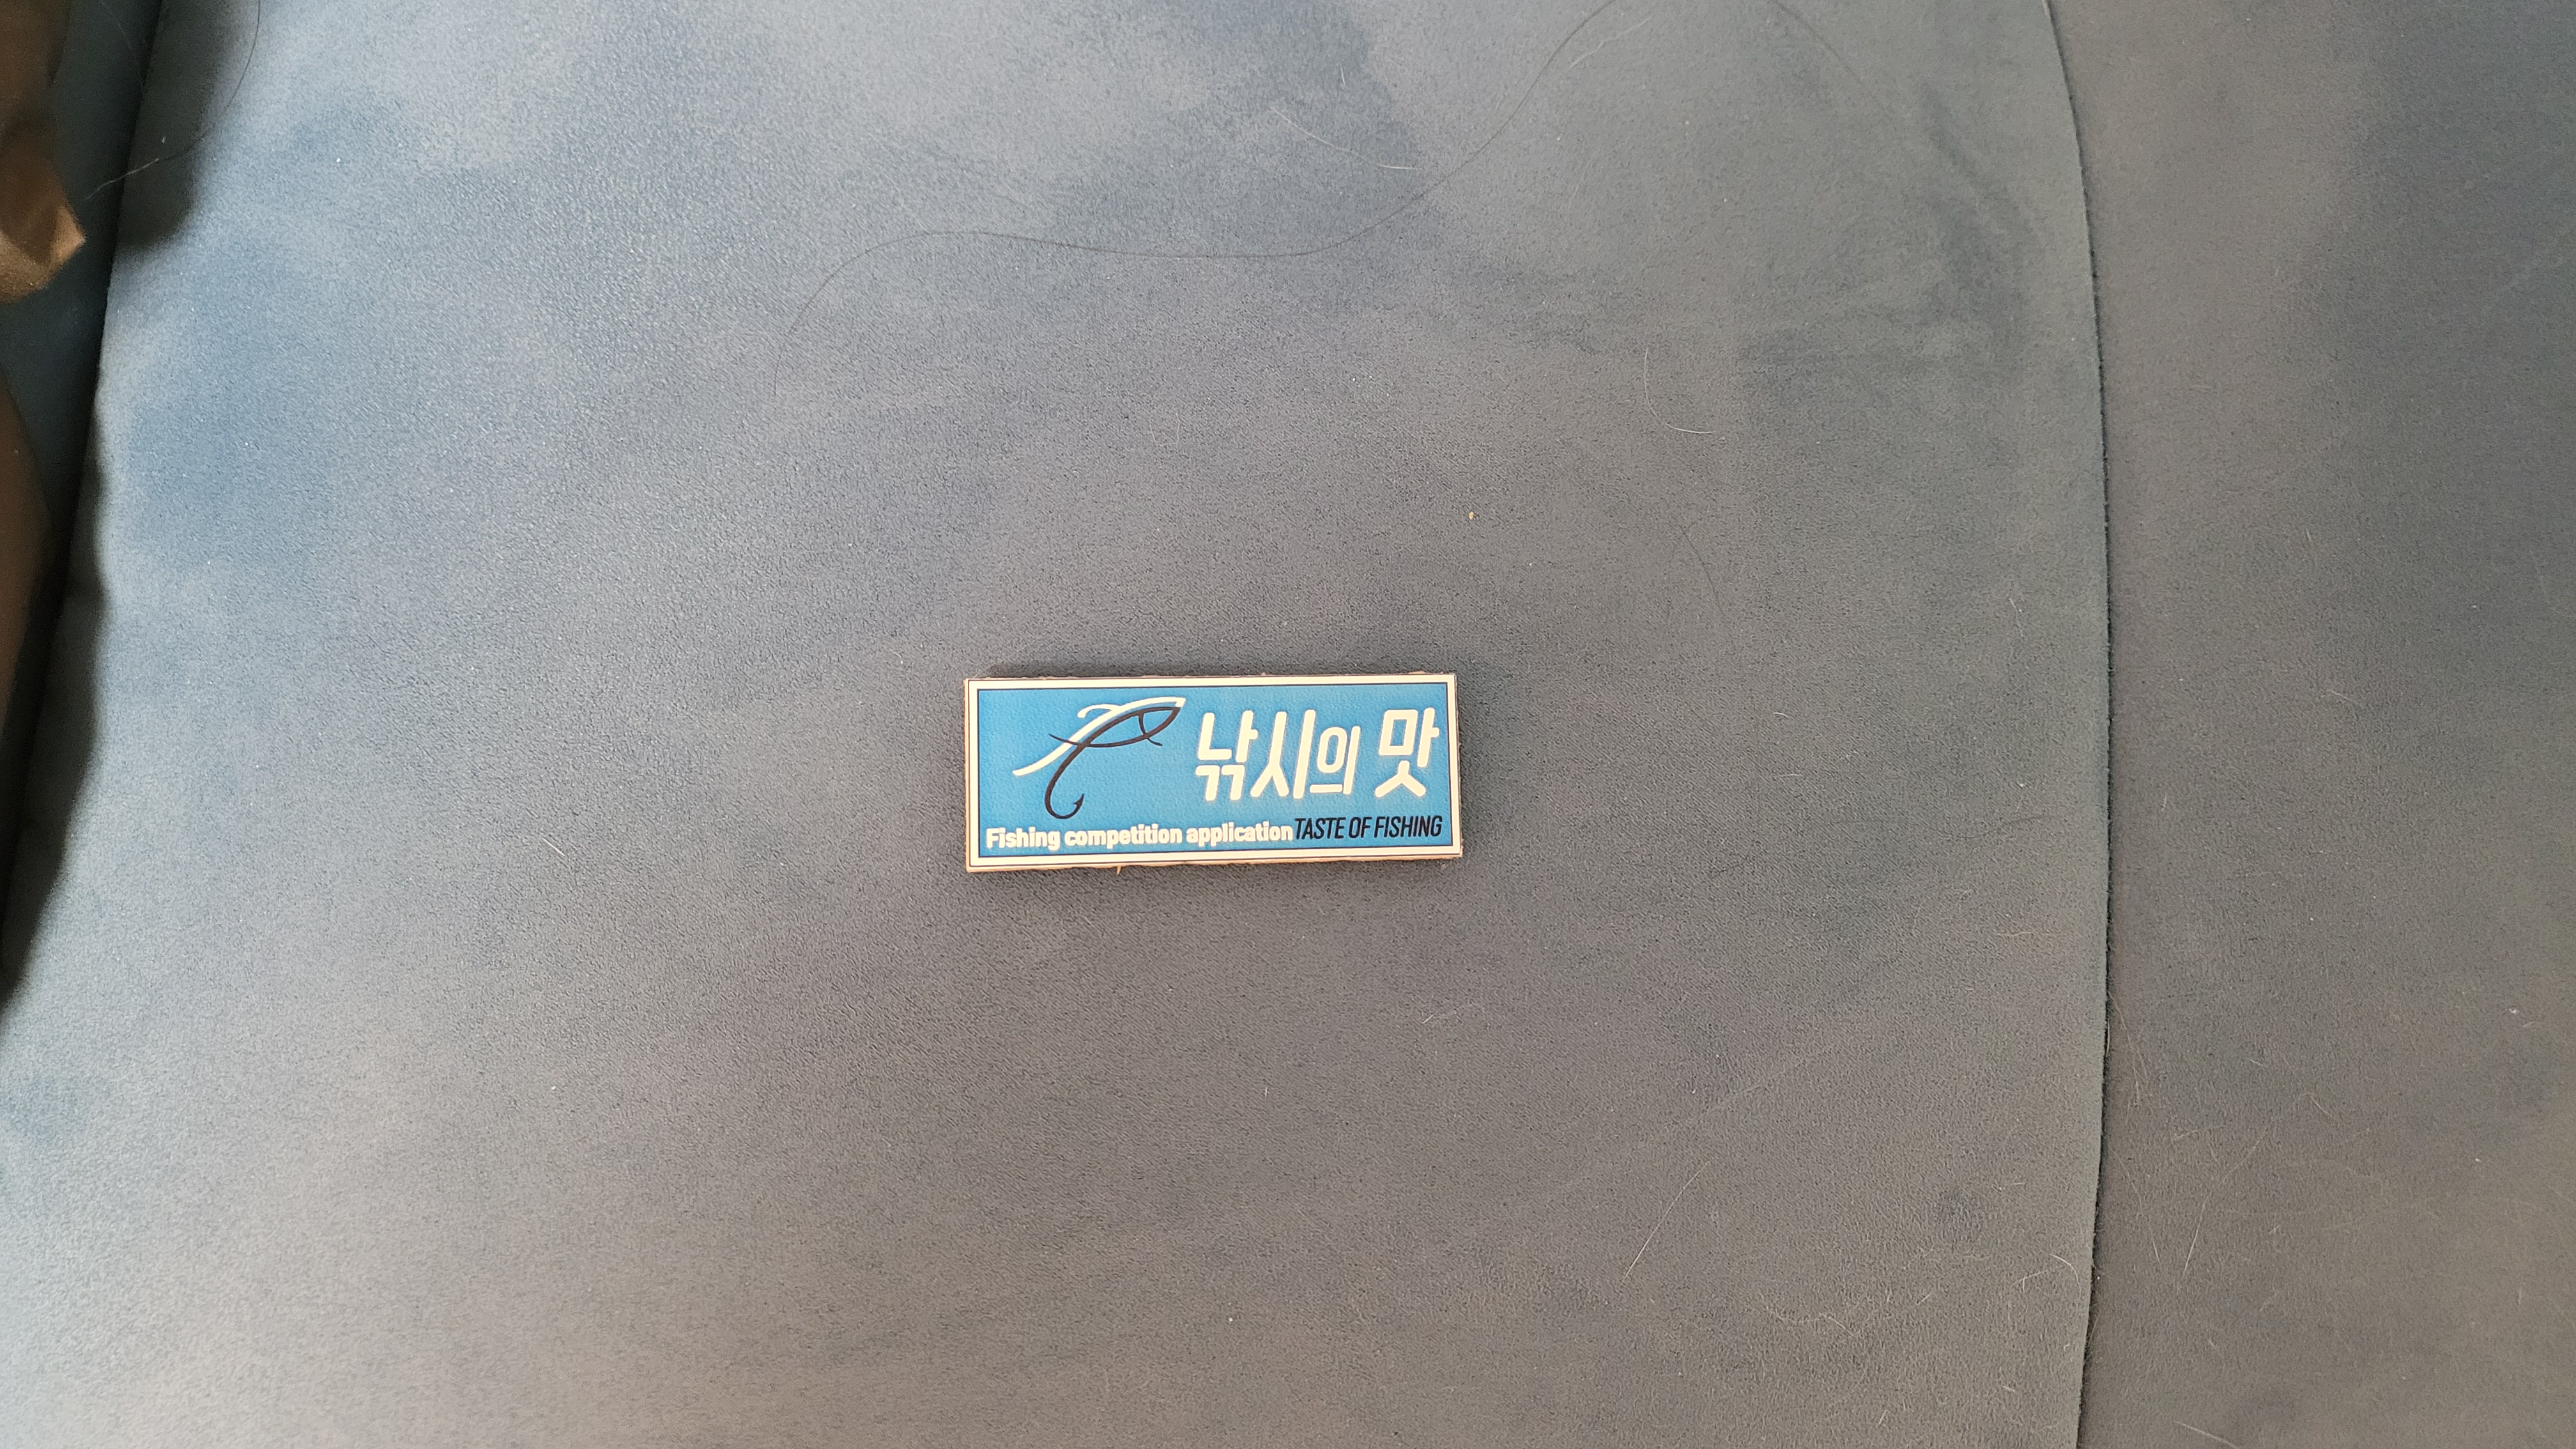tag: (964, 683, 1463, 872)
